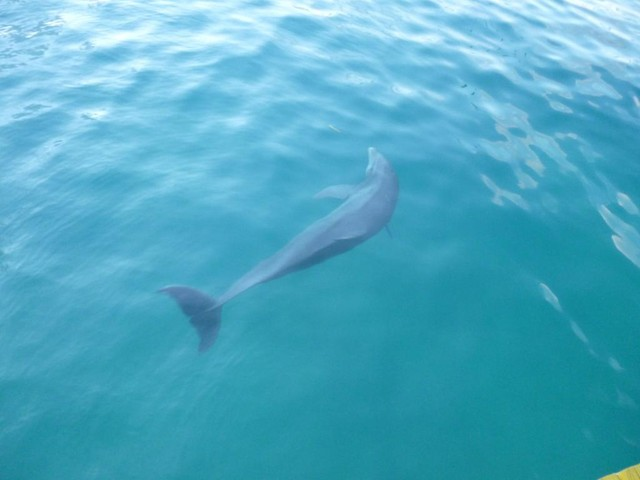whale: (153, 144, 403, 359)
